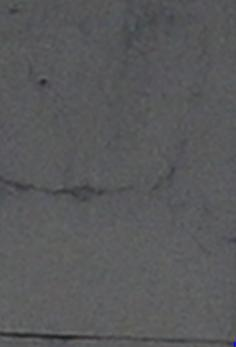termicas: (1, 147, 206, 237)
